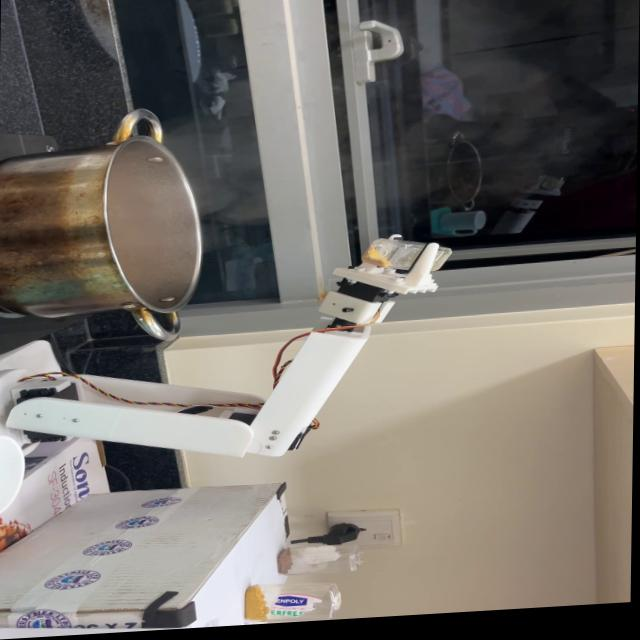cooking_pot: (0, 109, 209, 350)
curry_powder: (243, 586, 275, 626)
garlic_powder: (361, 247, 394, 274)
maggie_open: (279, 551, 294, 577)
